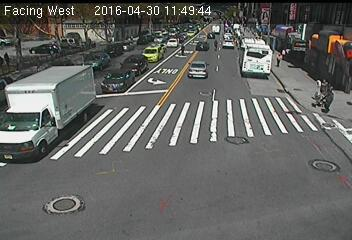neg: (33, 71, 74, 124), (121, 54, 149, 90), (21, 91, 45, 122), (240, 51, 263, 80), (166, 91, 187, 120), (15, 137, 35, 164), (66, 140, 86, 167), (96, 66, 116, 92), (42, 142, 61, 167), (91, 117, 110, 142), (223, 71, 240, 94), (202, 82, 218, 103), (229, 19, 242, 36), (252, 27, 264, 44)
pos: (321, 88, 341, 115), (274, 52, 285, 67), (178, 41, 188, 55), (84, 35, 94, 49), (211, 38, 221, 51)
